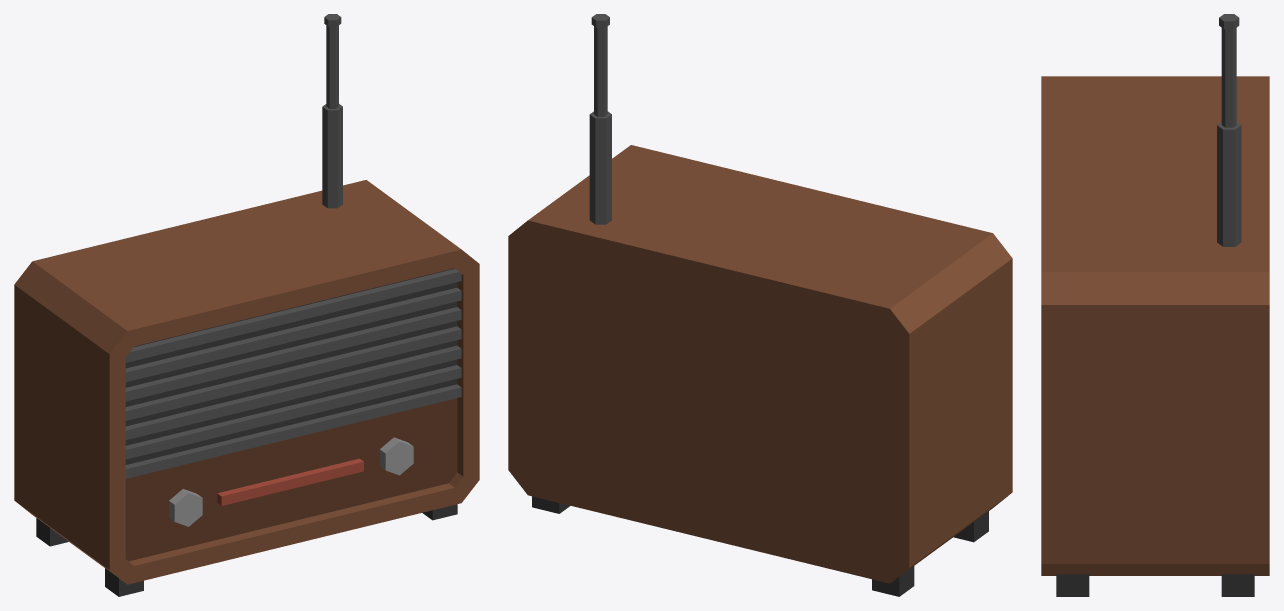
The model's file is Radio_01.fbx.
The picture shows the model from 3 angles, left to right: view 1: azimuth 30°, elevation 25°; view 2: azimuth 150°, elevation 25°; view 3: azimuth 270°, elevation 25°; orthographic projection. The views are drawn at different scales.
Parts seen in each view (by area): view 1: Radio_01; view 2: Radio_01; view 3: Radio_01.
Boxes of the visible parts, x1,y1,x2,y2 form: Radio_01: (14,14,479,596); Radio_01: (508,14,1012,596); Radio_01: (1041,14,1269,596).
Size of the model in its own units: 26.44 by 31.22 by 11.79.
